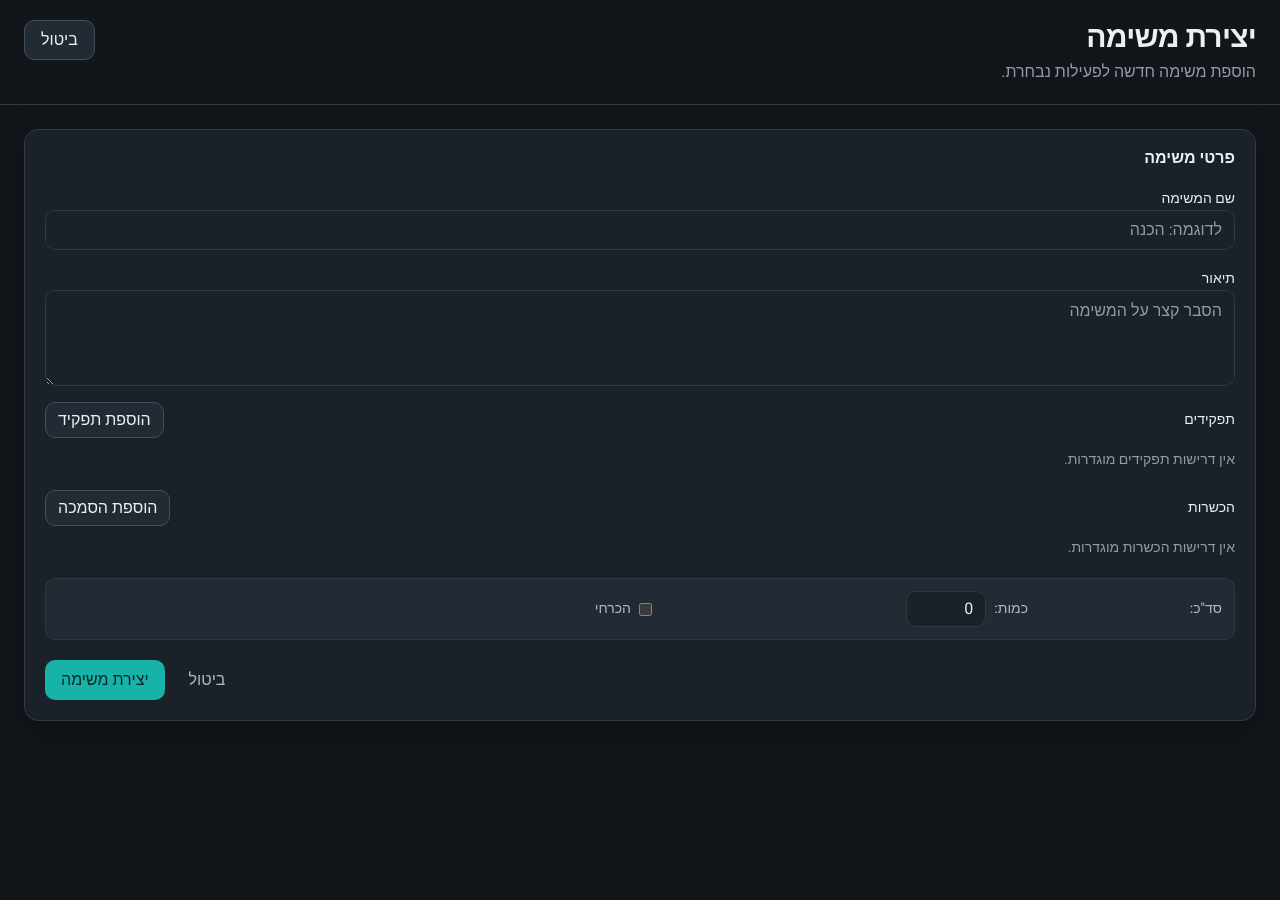
it: ActivityTaskCreatePage › keeps values entered after backend rejection
Type "הכנה" into the field labelled "שם המשימה" at (640, 230), box [45,210,1235,250]
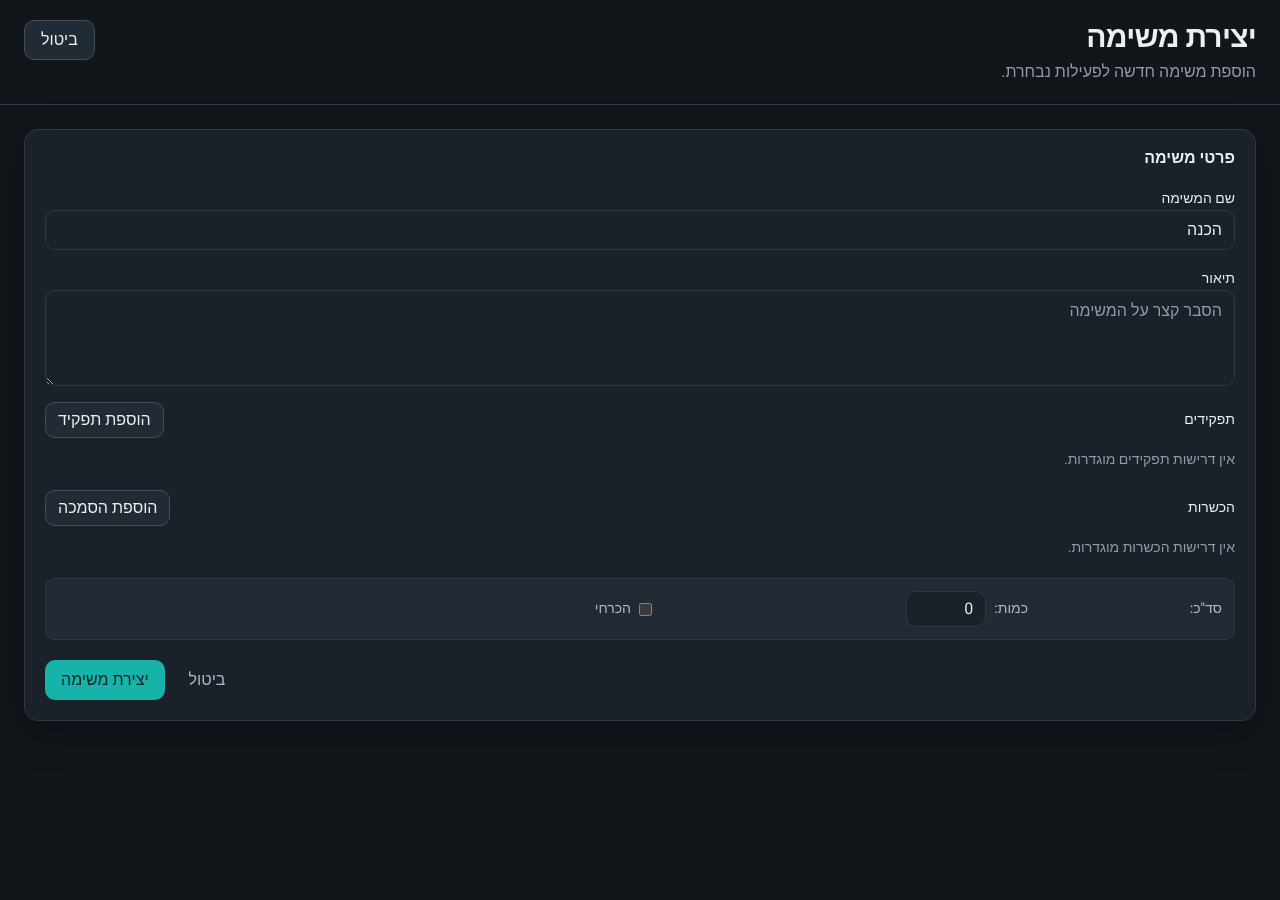
Type "בדיקת ציוד" into the text box labelled "תיאור" at (640, 338), box [45,290,1235,386]
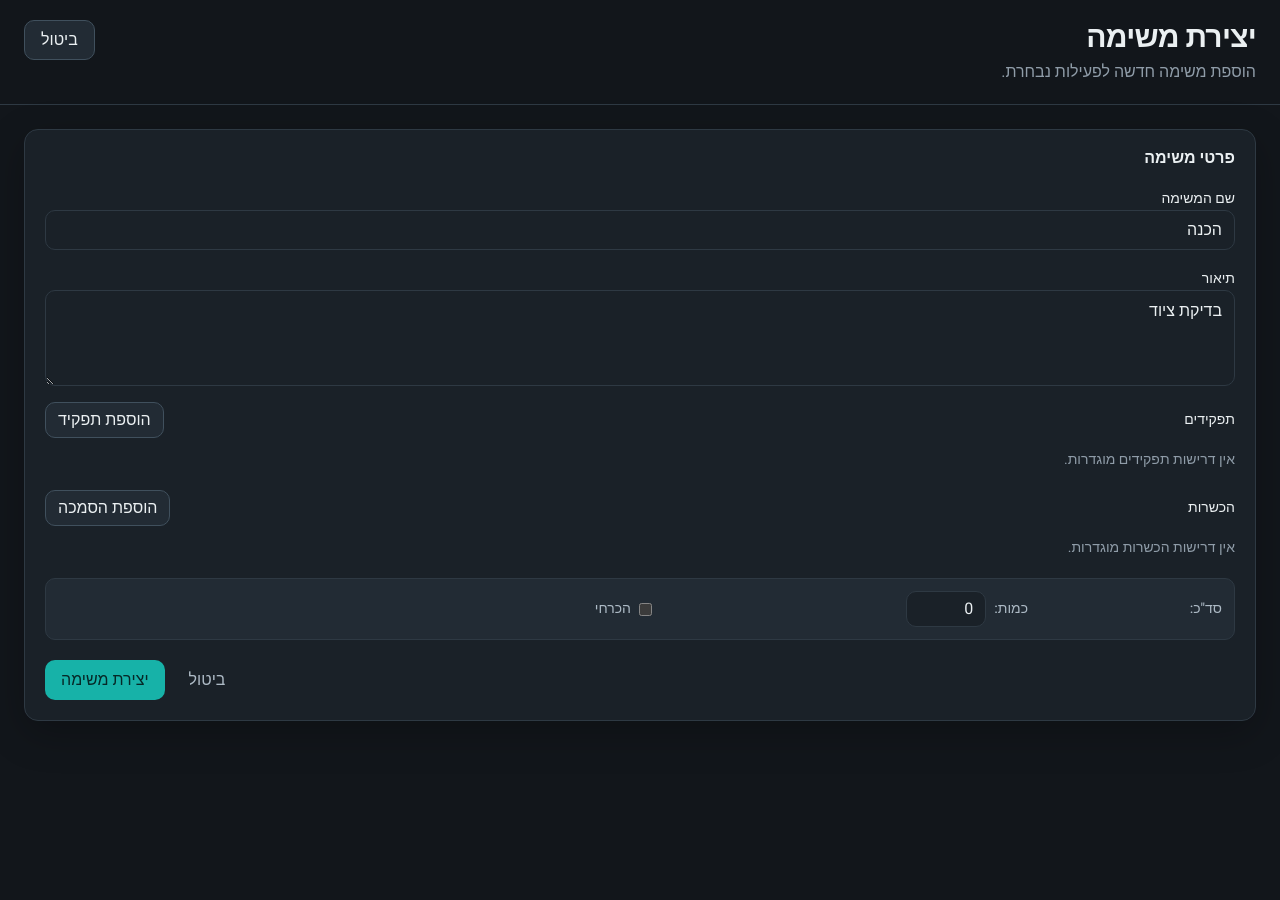
Click the button "יצירת משימה" at (105, 680), box [45,660,165,700]
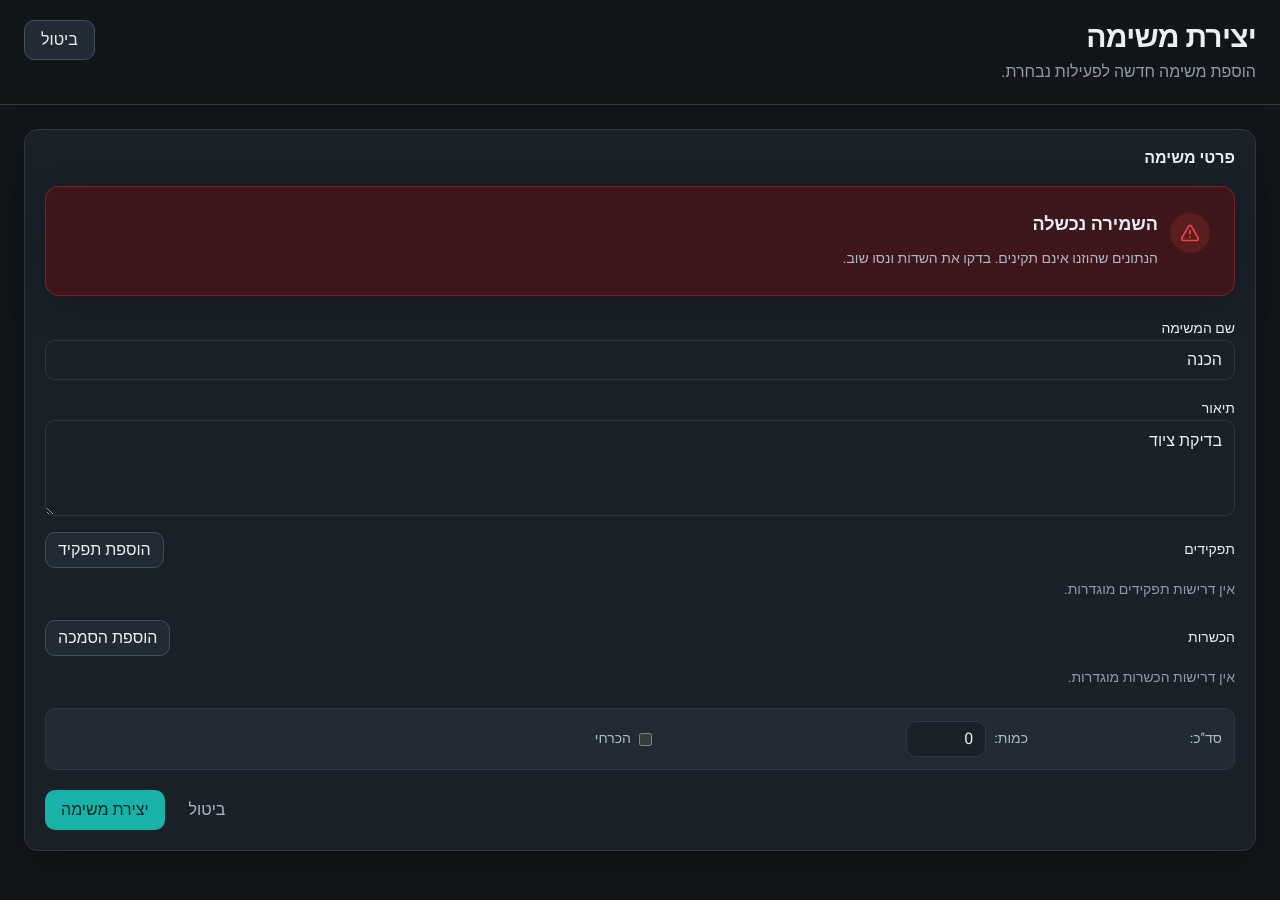
Check: the heading "השמירה נכשלה" is shown, box [1032,211,1158,238]
